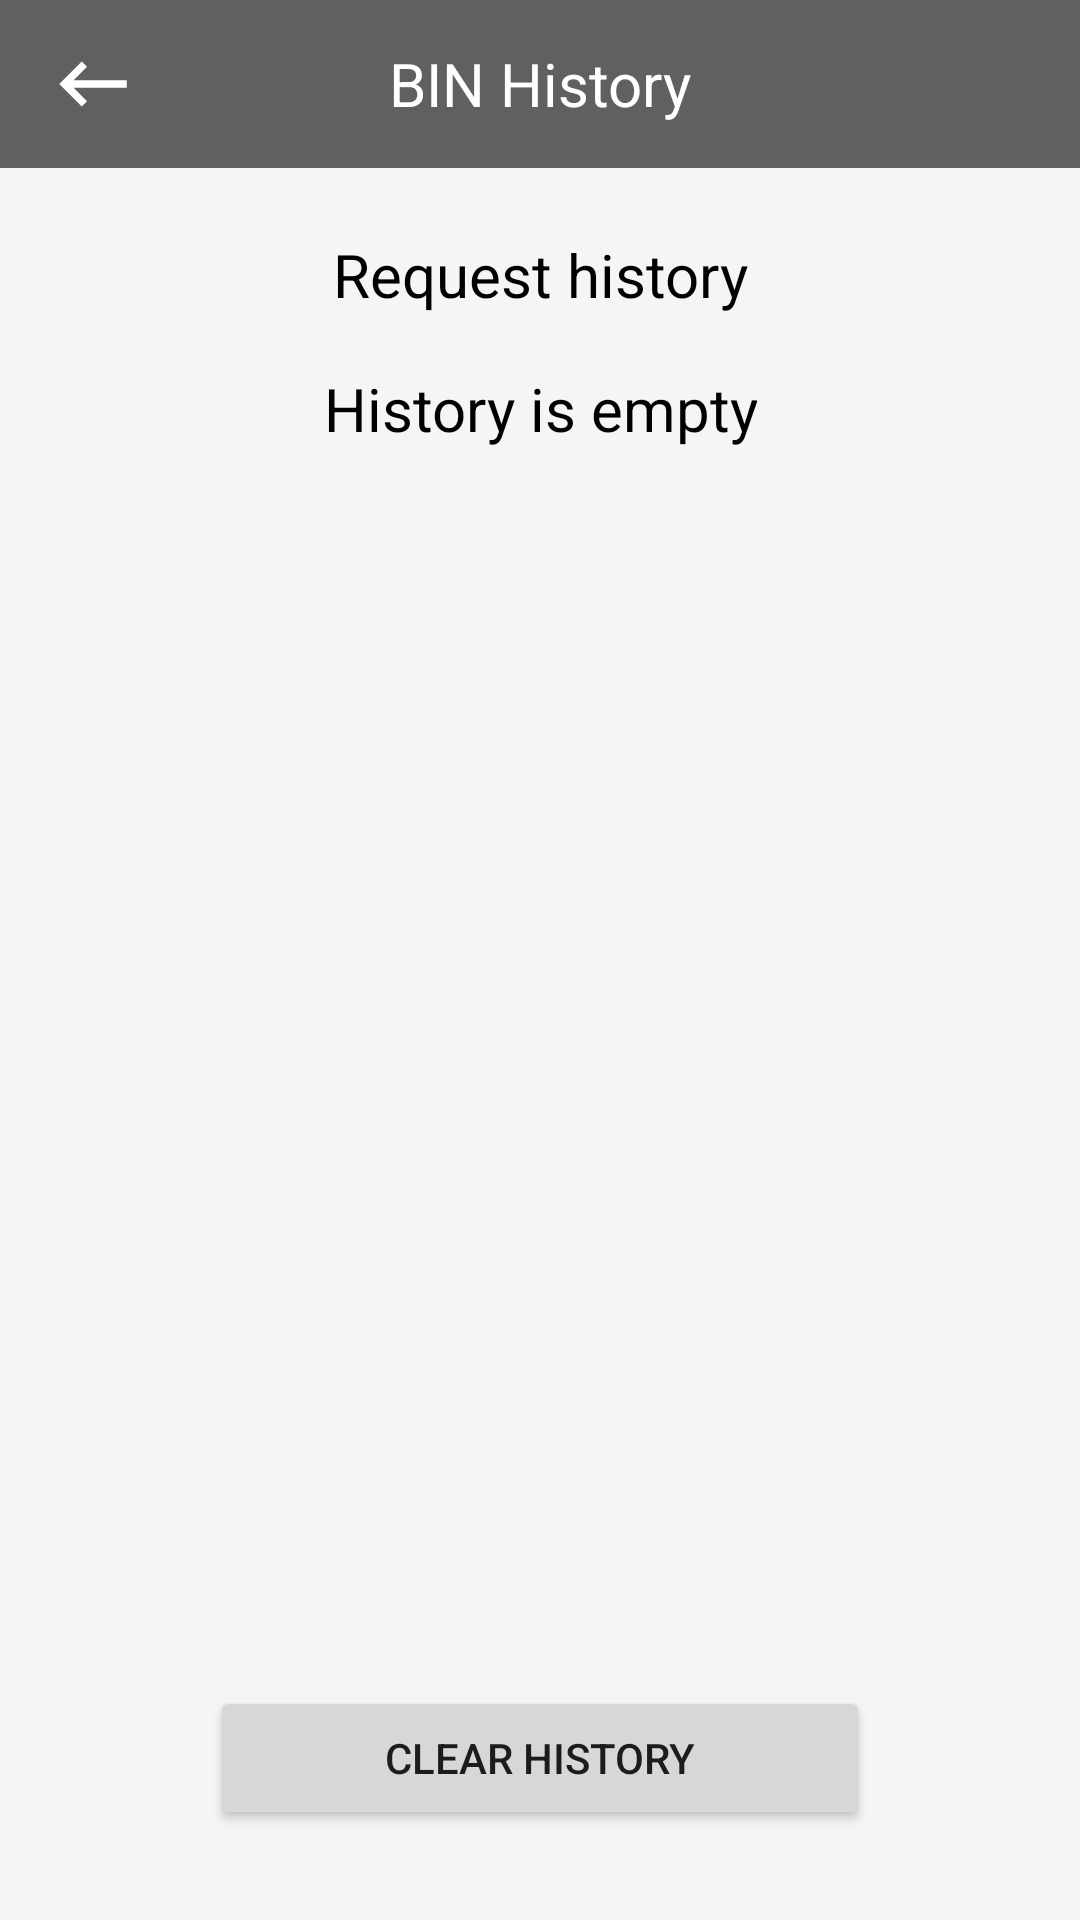

Icon bounding boxes for this 1080x1920 phone screenshot, format (x1, y1, x2, y2):
back: (59, 61, 127, 107)
